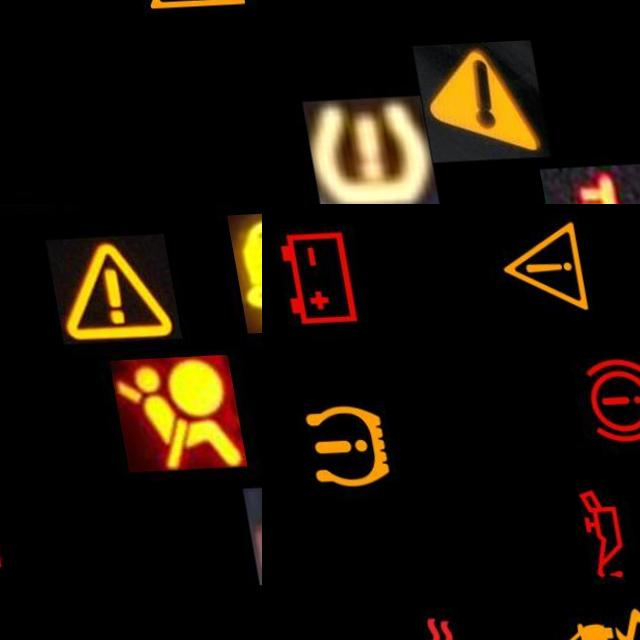Central Warning lamp: (410, 43, 544, 165), (37, 238, 170, 348), (114, 0, 249, 28)
Engine cooling system: (532, 167, 640, 204)
High Engine Coolant Temperature: (336, 603, 461, 640)
